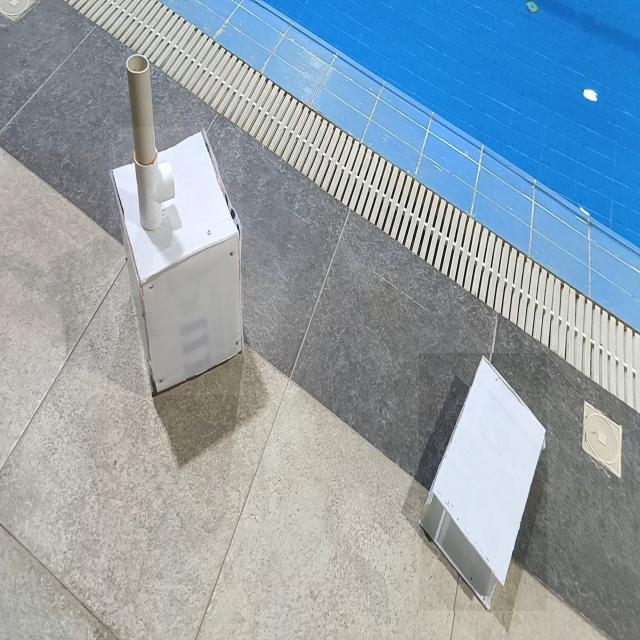Cube: (109, 127, 243, 395)
Cuboid: (420, 354, 548, 612)
